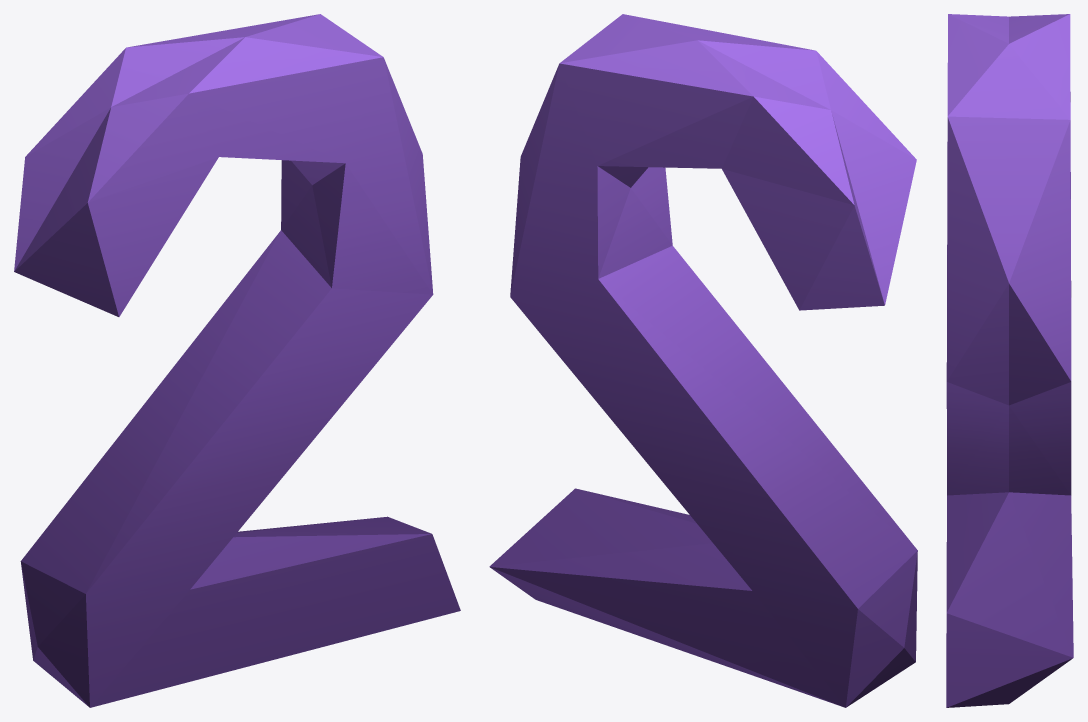
3 renders of one model, left to right at view 1: azimuth 30°, elevation 25°; view 2: azimuth 150°, elevation 25°; view 3: azimuth 270°, elevation 25°, orthographic. The views are drawn at different scales.
Parts seen in each view (by area): view 1: Two; view 2: Two; view 3: Two.
Part boxes in pixels (x1,y1,x2,y2): Two: (14, 14, 460, 707); Two: (489, 14, 917, 707); Two: (946, 14, 1073, 707).
Bounding box in the file's own units: 0.3379 × 0.4952 × 0.0978.
